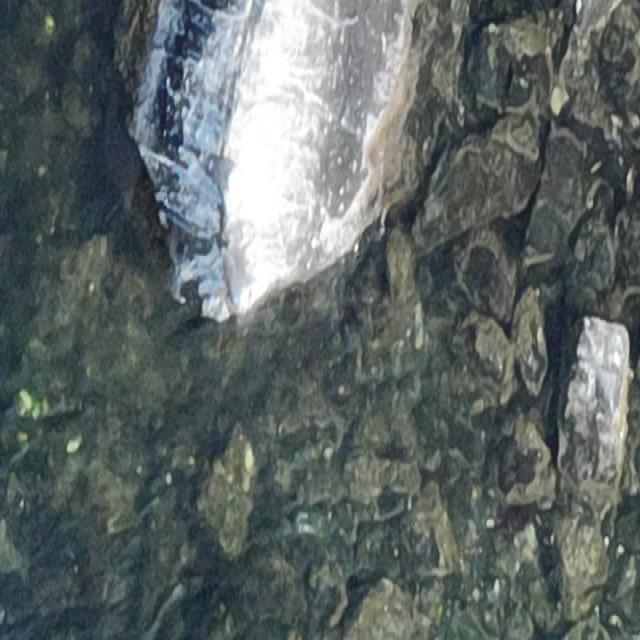umineko: (202, 147, 246, 200)
